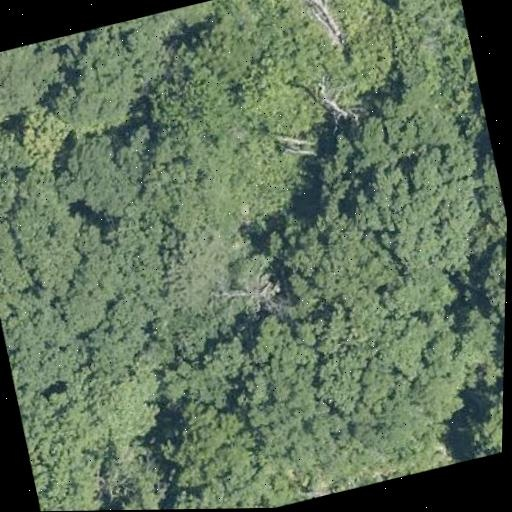tree-top: (217, 300, 383, 471), (54, 215, 204, 390), (364, 147, 499, 299), (222, 15, 360, 146), (383, 290, 505, 420), (15, 379, 127, 512), (0, 161, 97, 310), (148, 154, 268, 273), (331, 84, 469, 184), (271, 197, 390, 308), (154, 394, 267, 510), (38, 25, 155, 135), (143, 65, 255, 178), (52, 119, 159, 227), (91, 360, 179, 467), (0, 38, 71, 132), (359, 0, 467, 51), (183, 9, 259, 78), (6, 97, 70, 174), (469, 240, 506, 362), (459, 378, 503, 459), (92, 479, 177, 510)
